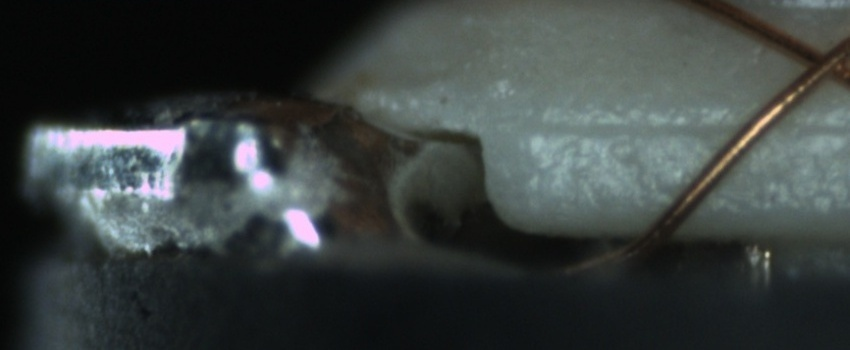CL: (786, 29, 846, 95)
DL: (521, 94, 846, 162)
